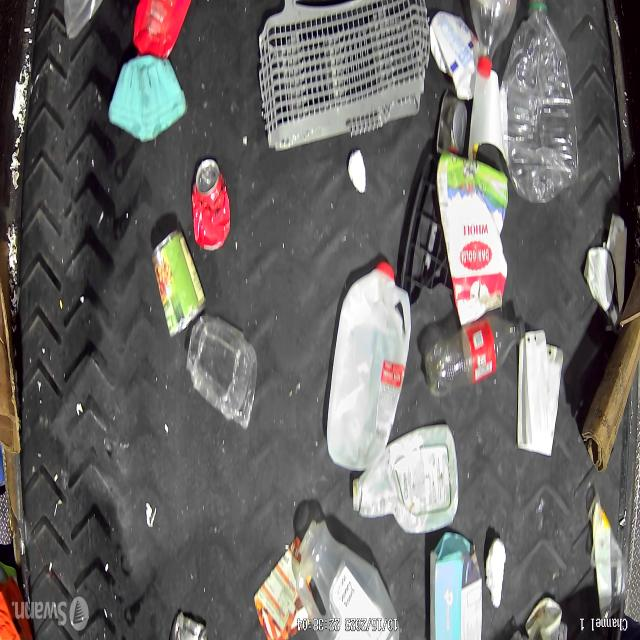can: (151, 228, 206, 336), (190, 158, 230, 254), (433, 89, 467, 156)
milk_jug: (326, 260, 412, 473)
non_white_jug: (296, 519, 401, 640), (352, 424, 458, 536), (429, 530, 482, 639)
plastic_bottle: (502, 5, 576, 196), (424, 314, 525, 398), (459, 0, 518, 72)
